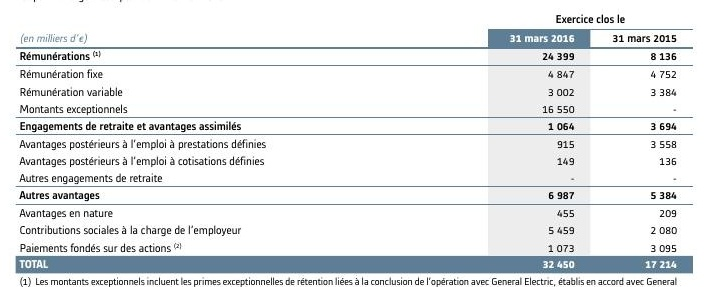table: (0, 0, 709, 287)
